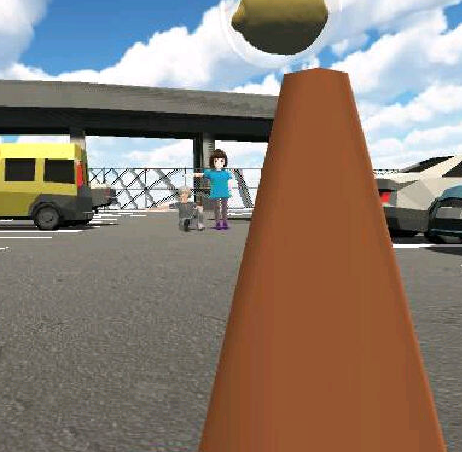doubleP_left: (145, 142, 232, 233)
